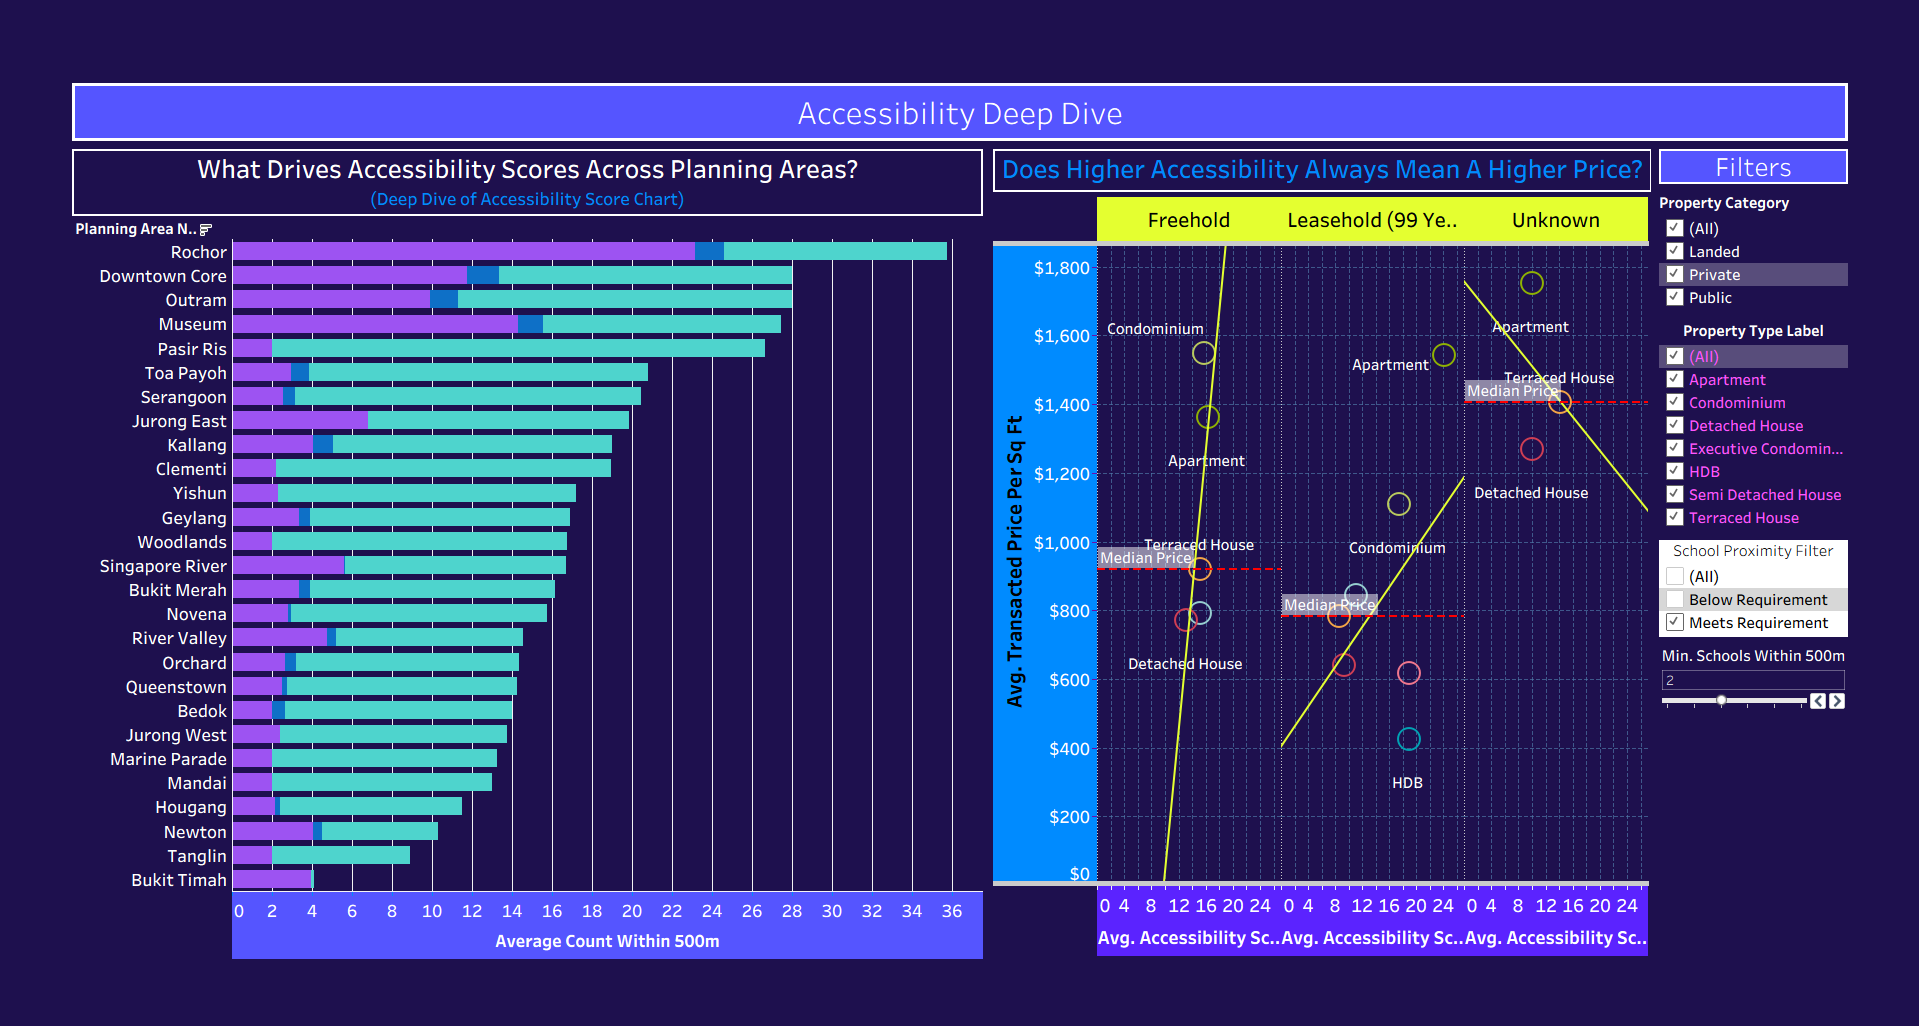

This screenshot's page, from the dashboard's own definition file:
{"tool":"tableau","page":{"name":"Dashboard 3 —  Accessibility Deep Dive","canvas":[1800,900],"ordinal":2},"visuals":[{"type":"title","box":[8,8,1784,83]},{"type":"worksheet","title":"Chart 7 — Bar Chart (Accessibility Breakdown by Planning Area)","mark":"Automatic","rows":["PlanningAreaName"],"box":[8,91,877,801]},{"type":"worksheet","title":"Chart 4 — Scatter Plot (Accessibility vs Price by Tenure)","mark":"Automatic","rows":["TransactedPricePerSqFt"],"cols":["PropertyTenureType","AccessibilityScore"],"box":[885,91,695,801]},{"type":"text","box":[1616,91,176,43]},{"type":"filter","title":"Chart 4 — Scatter Plot (Accessibility vs Price by Tenure)","param":"[federated.1q84nl109sxkft18igaiv0syhhrs].[none:PropertyCategory:nk]","box":[1616,134,176,128]},{"type":"filter","title":"Chart 4 — Scatter Plot (Accessibility vs Price by Tenure)","param":"[federated.1q84nl109sxkft18igaiv0syhhrs].[none:PropertyTypeLabel:nk]","box":[1616,262,176,220]},{"type":"filter","title":"Chart 4 — Scatter Plot (Accessibility vs Price by Tenure)","param":"[federated.1q84nl109sxkft18igaiv0syhhrs].[none:Calculation_1058832002998273:nk]","box":[1616,482,176,82]},{"type":"parameter","param":"[Parameters].[Parameter 1]","box":[1616,564,176,79]},{"type":"filter","title":"Chart 7 — Bar Chart (Accessibility Breakdown by Planning Area)","param":"[federated.1q84nl109sxkft18igaiv0syhhrs].[avg:NumberOfMRTsWithin500Mts:qk]","box":[1616,643,176,81]},{"type":"text","box":[1616,724,176,43]},{"type":"legend","title":"Chart 7 — Bar Chart (Accessibility Breakdown by Planning Area)","param":"[federated.1q84nl109sxkft18igaiv0syhhrs].[:Measure Names]","box":[1616,767,176,93]}]}

Visuals, with their boxes on the page's 1800x900 design canvas (x1, y1, x2, y2). These are canvas units, not pixel positions in the 1919x1026 screenshot, which may show the page scaled, cropped or inside an application window:
title: <box>8,8,1792,91</box>
"Chart 7 — Bar Chart (Accessibility Breakdown by Planning Area)" worksheet: <box>8,91,885,892</box>
"Chart 4 — Scatter Plot (Accessibility vs Price by Tenure)" worksheet: <box>885,91,1580,892</box>
text: <box>1616,91,1792,134</box>
"Chart 4 — Scatter Plot (Accessibility vs Price by Tenure)" filter: <box>1616,134,1792,262</box>
"Chart 4 — Scatter Plot (Accessibility vs Price by Tenure)" filter: <box>1616,262,1792,482</box>
"Chart 4 — Scatter Plot (Accessibility vs Price by Tenure)" filter: <box>1616,482,1792,564</box>
parameter: <box>1616,564,1792,643</box>
"Chart 7 — Bar Chart (Accessibility Breakdown by Planning Area)" filter: <box>1616,643,1792,724</box>
text: <box>1616,724,1792,767</box>
"Chart 7 — Bar Chart (Accessibility Breakdown by Planning Area)" legend: <box>1616,767,1792,860</box>
